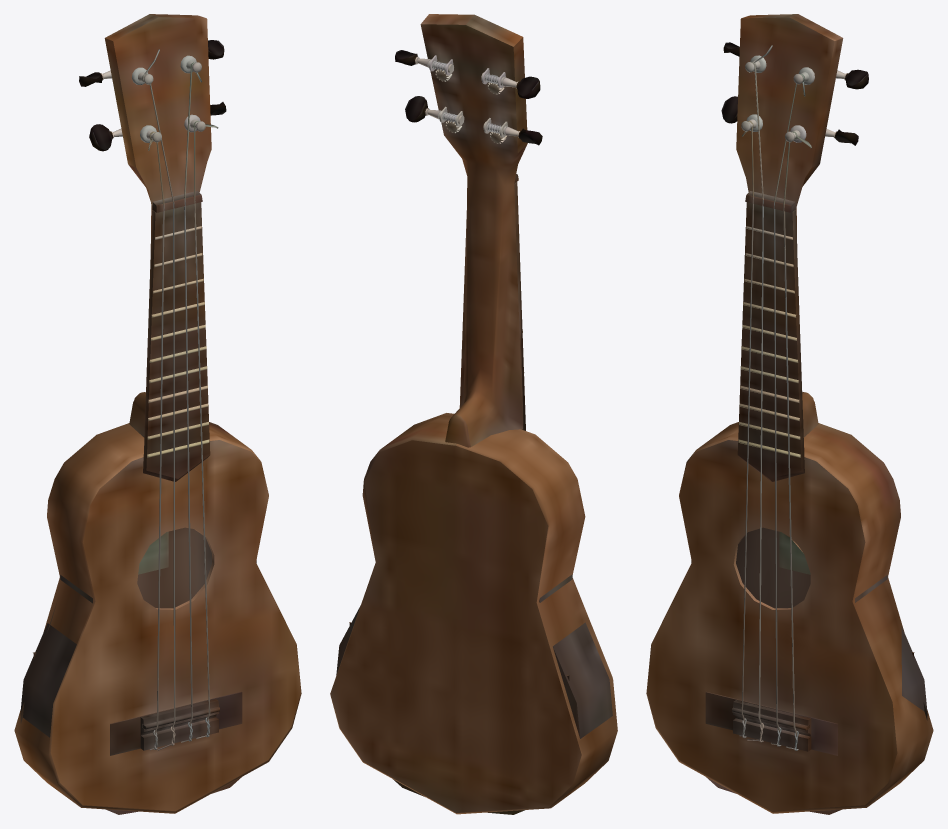
3 views of the same model, side by side, from view 1: azimuth 30°, elevation 25°; view 2: azimuth 150°, elevation 25°; view 3: azimuth 330°, elevation 25° (orthographic).
Visible parts, largest first — view 1: Ukulele_01; view 2: Ukulele_01; view 3: Ukulele_01.
Boxes of the visible parts, <box> form: Ukulele_01: <box>14,14,301,814</box>; Ukulele_01: <box>330,14,617,814</box>; Ukulele_01: <box>646,14,933,814</box>.
Bounding box in the file's own units: 0.1779 × 0.527 × 0.0508.
Materials: 1 (1 with a texture image).
